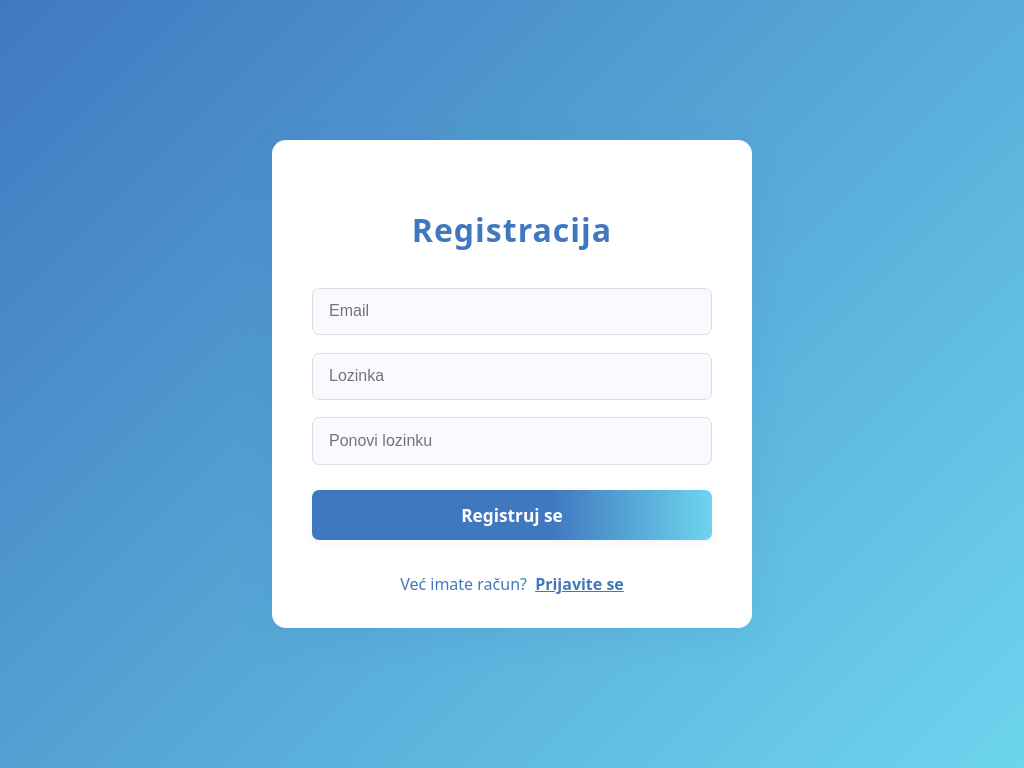
Auth Flow › shows error if passwords do not match during registration
Type "another@example.com" into the field named "email" at coordinates (512, 312), box [312,288,712,335]
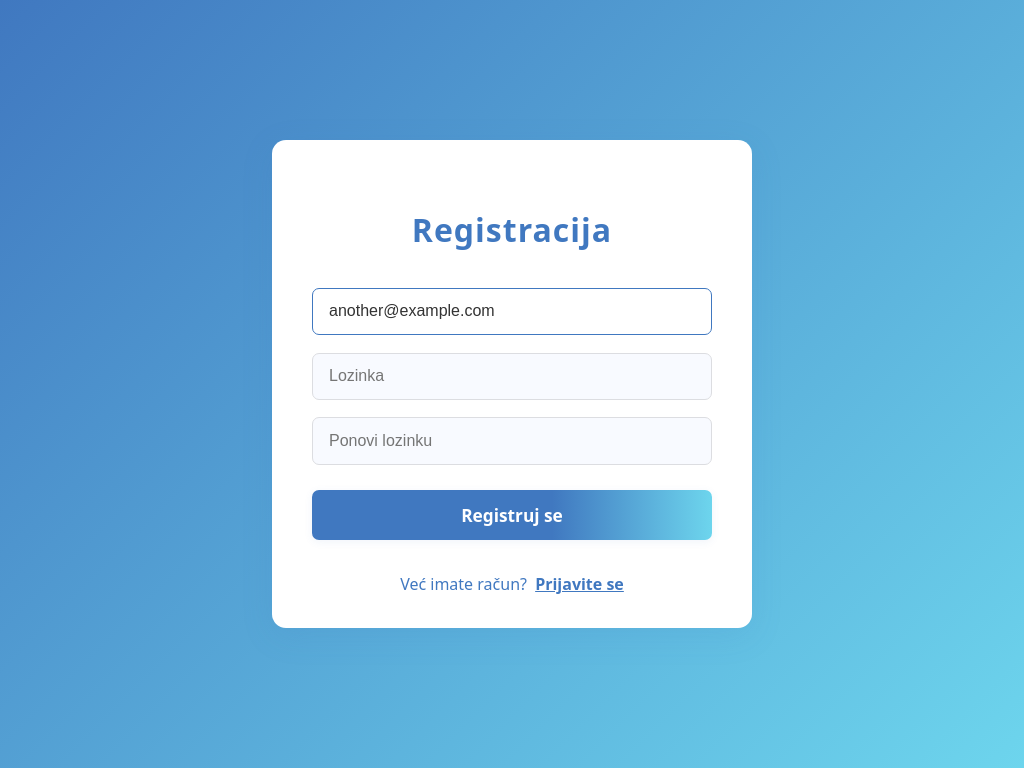
Type "password123" into the password field named "password" at coordinates (512, 377), box [312,353,712,400]
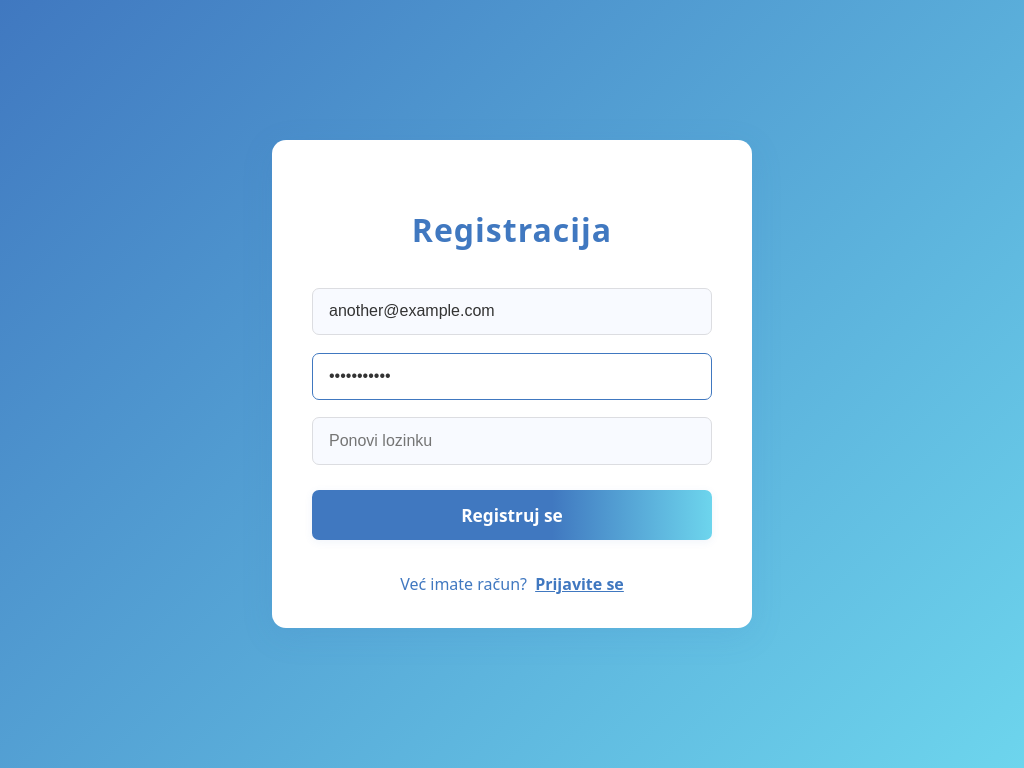
Type "differentPass" into the password field named "confirmPassword" at coordinates (512, 441), box [312,417,712,464]
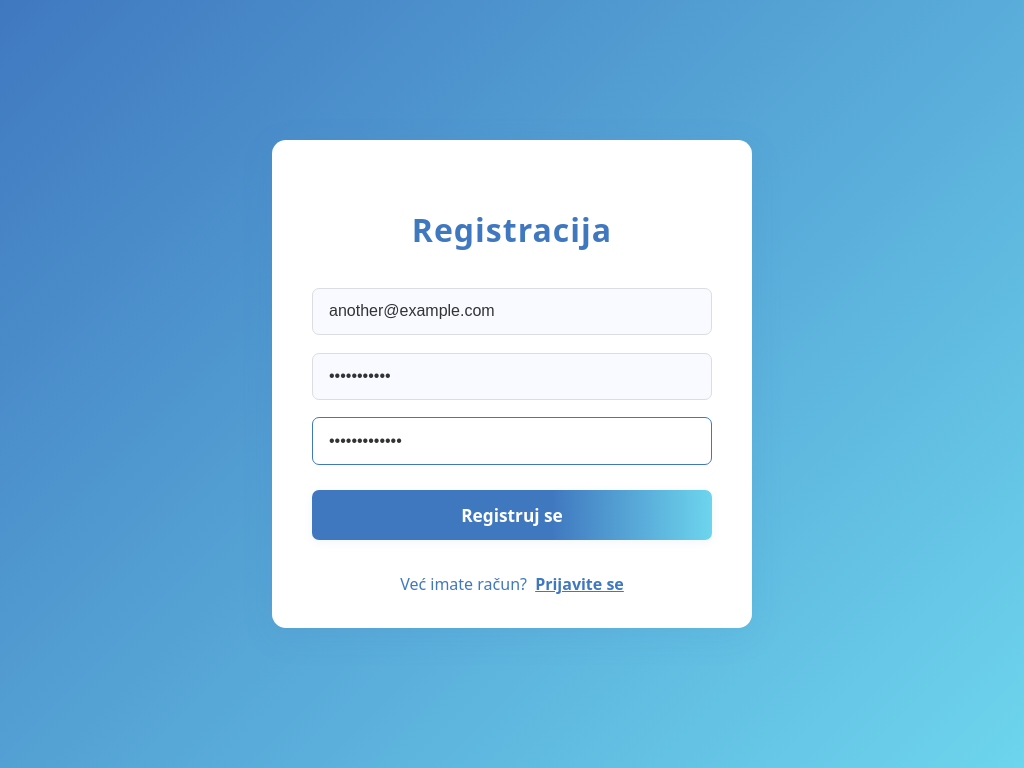
Click the submit button at coordinates (512, 515), box [312,490,712,540]
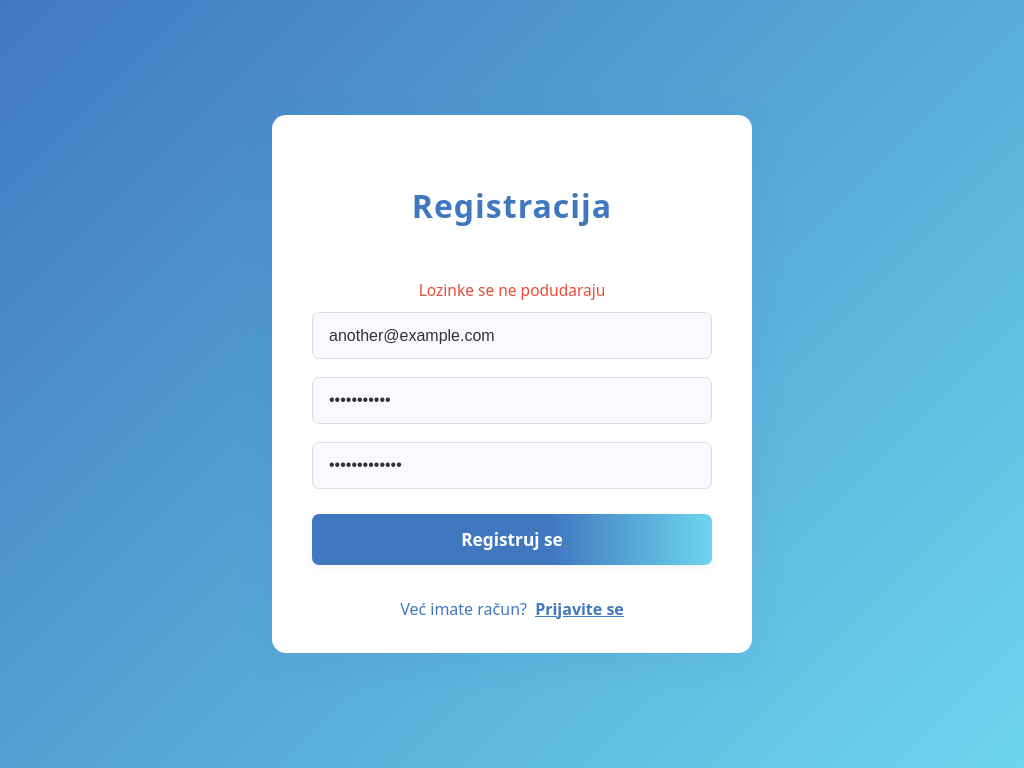
expect the text "Lozinke se ne podudaraju" is shown: met, box [419,279,605,301]
